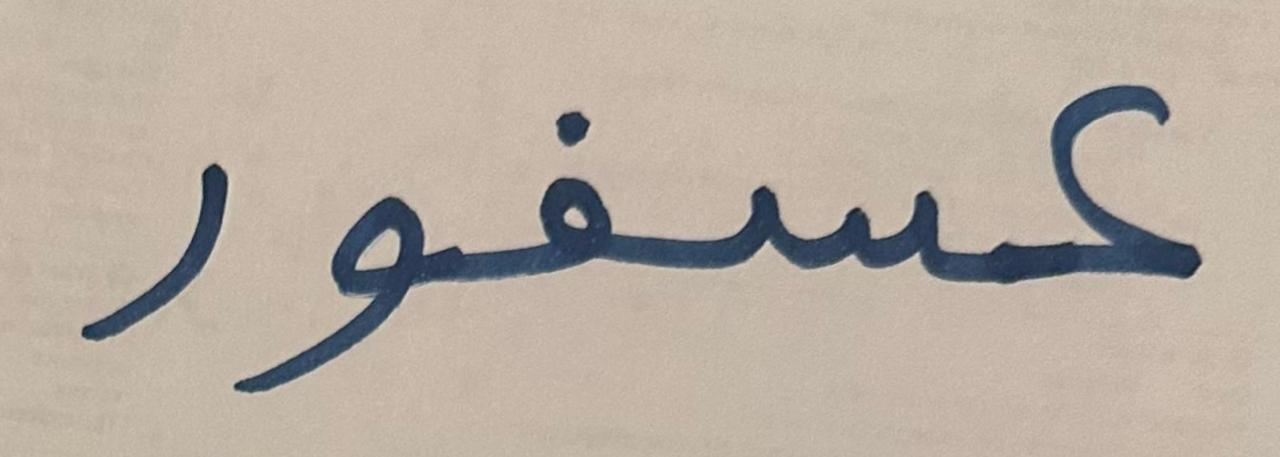ain: (986, 1, 1245, 356)
feh: (465, 12, 659, 362)
sad: (33, 94, 237, 377)
sheen: (664, 14, 981, 355)
yeh: (242, 107, 459, 418)
